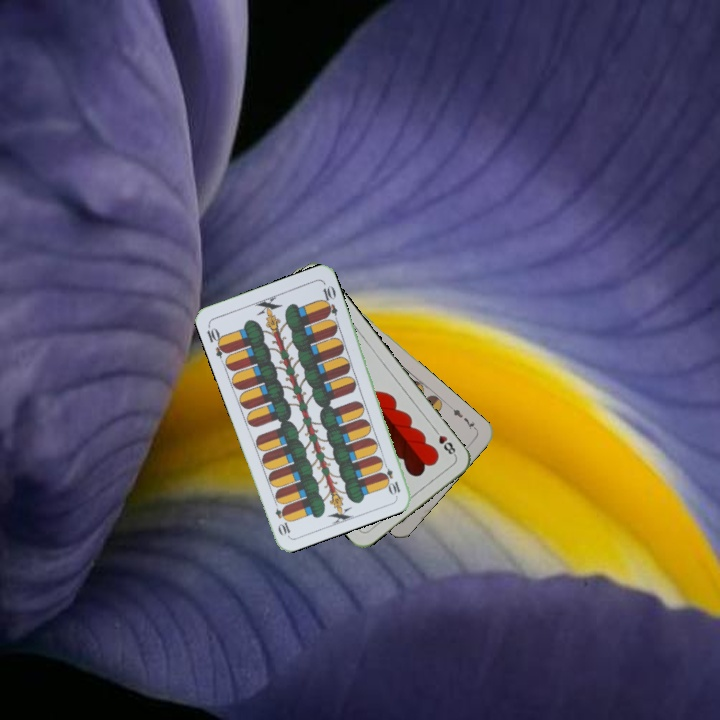E10: (203, 321, 230, 360), (378, 458, 403, 497)
E7: (447, 402, 480, 433)
H8: (429, 424, 459, 459)
